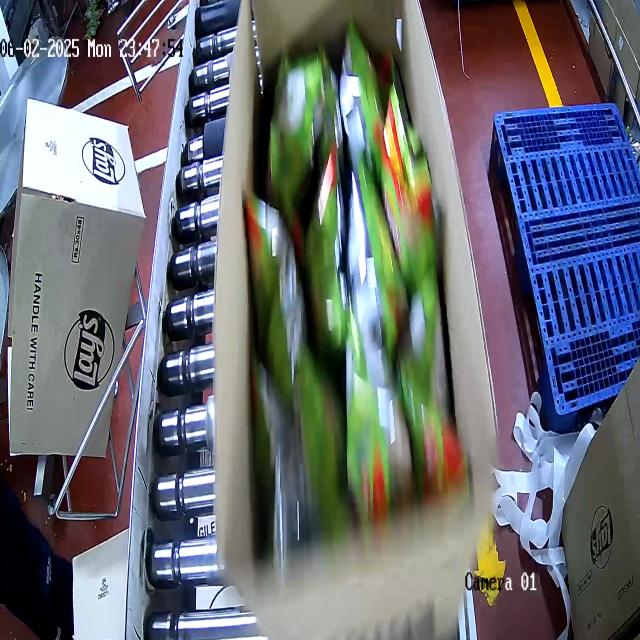YOGURT_HERB: (247, 47, 439, 497)
